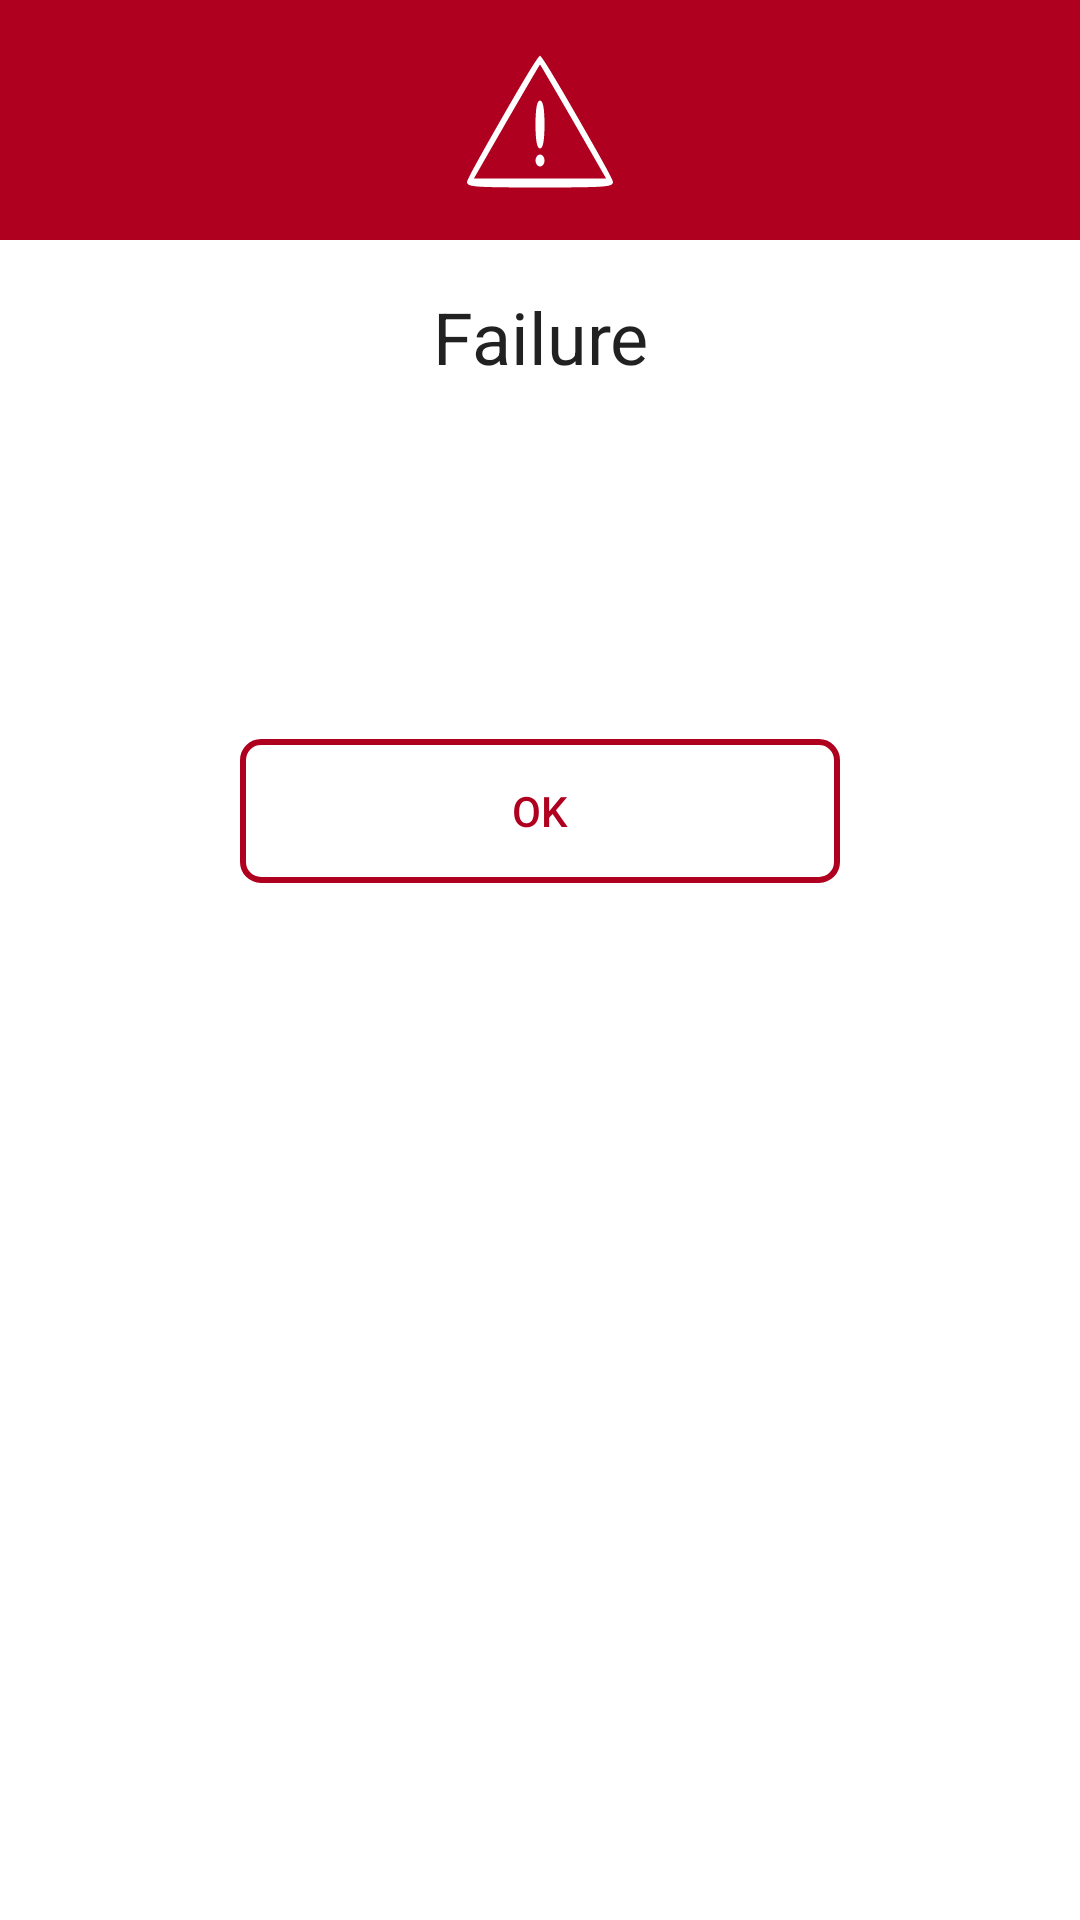

Named icons in this screenshot (1080w x 1920h) and their bounding boxes, (x1,y1,x2,y2):
danger: (467,56,613,188)
